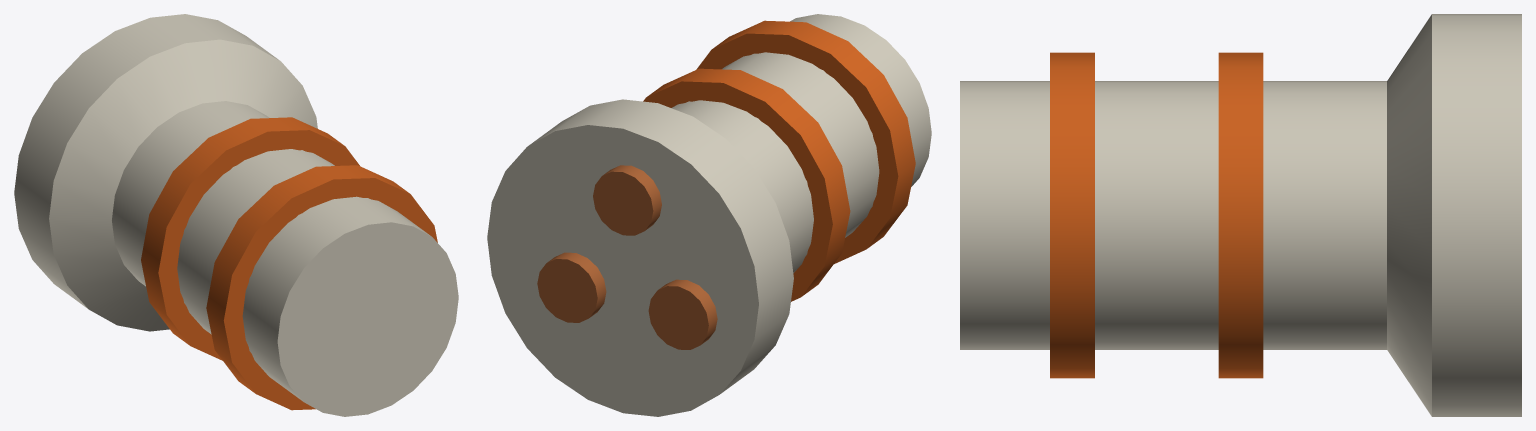
The model's file is u33_busbar.obj.
3 renders of one model, left to right at view 1: azimuth 30°, elevation 25°; view 2: azimuth 150°, elevation 25°; view 3: azimuth 270°, elevation 25°, orthographic. The views are drawn at different scales.
Visible parts, largest first — view 1: u33_busbar; view 2: u33_busbar; view 3: u33_busbar.
Boxes of the visible parts, x1,y1,x2,y2 form: u33_busbar: (14, 14, 458, 416); u33_busbar: (487, 14, 931, 416); u33_busbar: (960, 14, 1521, 416).
Size of the model in its own units: 0.72 by 0.72 by 1.
